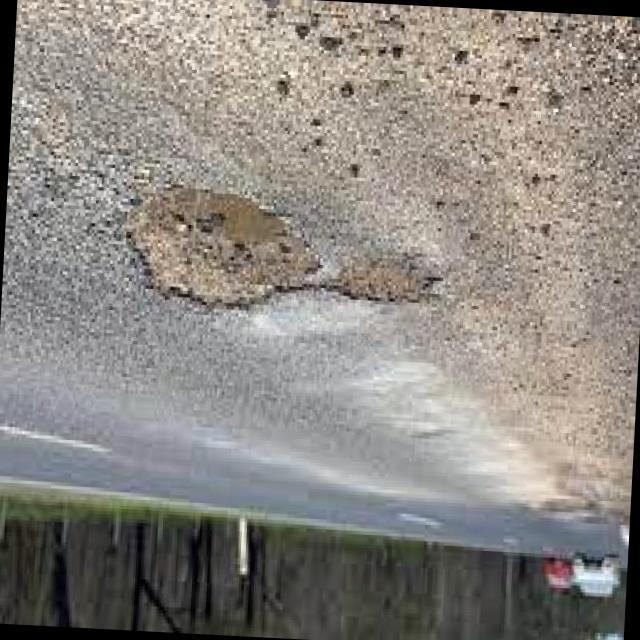pothole: (98, 179, 434, 332)
